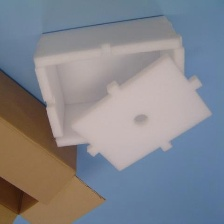book: (0, 67, 109, 224)
foam_box: (28, 11, 217, 175)
